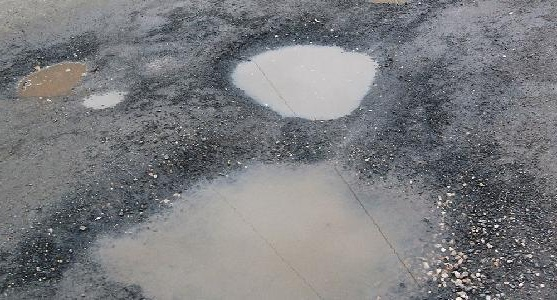pothole: (29, 134, 476, 300), (218, 27, 392, 123), (0, 43, 100, 101), (79, 84, 128, 111)
